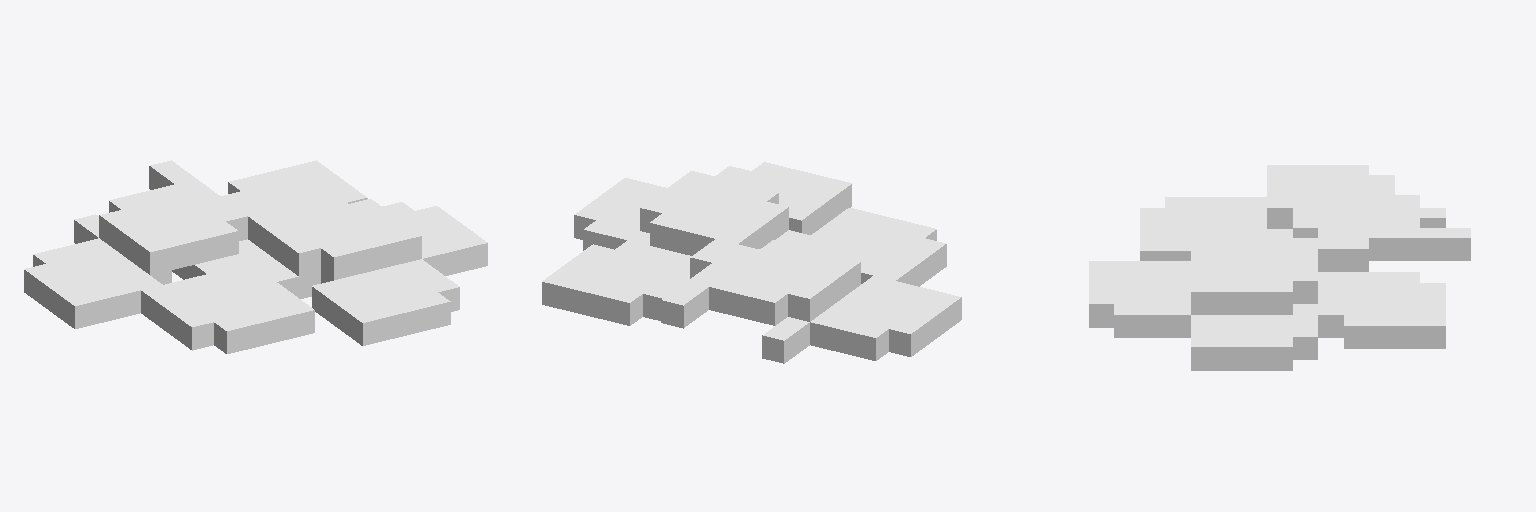
File: feuilles.vox.obj
3 renders of one model, left to right at view 1: azimuth 30°, elevation 25°; view 2: azimuth 150°, elevation 25°; view 3: azimuth 270°, elevation 25°, orthographic.
Parts seen in each view (by area): view 1: object 1; view 2: object 1; view 3: object 1.
Part boxes in pixels (x1,y1,x2,y2): object 1: (24, 160, 487, 353); object 1: (542, 162, 961, 363); object 1: (1089, 165, 1470, 370).
Size of the model in its own units: 1.7 by 0.2 by 1.5.